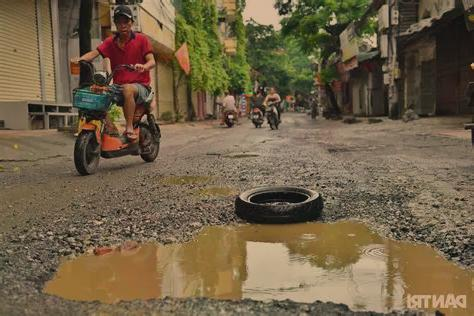POTHOLE: (47, 212, 474, 316)
ROAD_OBSTACLE: (228, 183, 332, 240)
